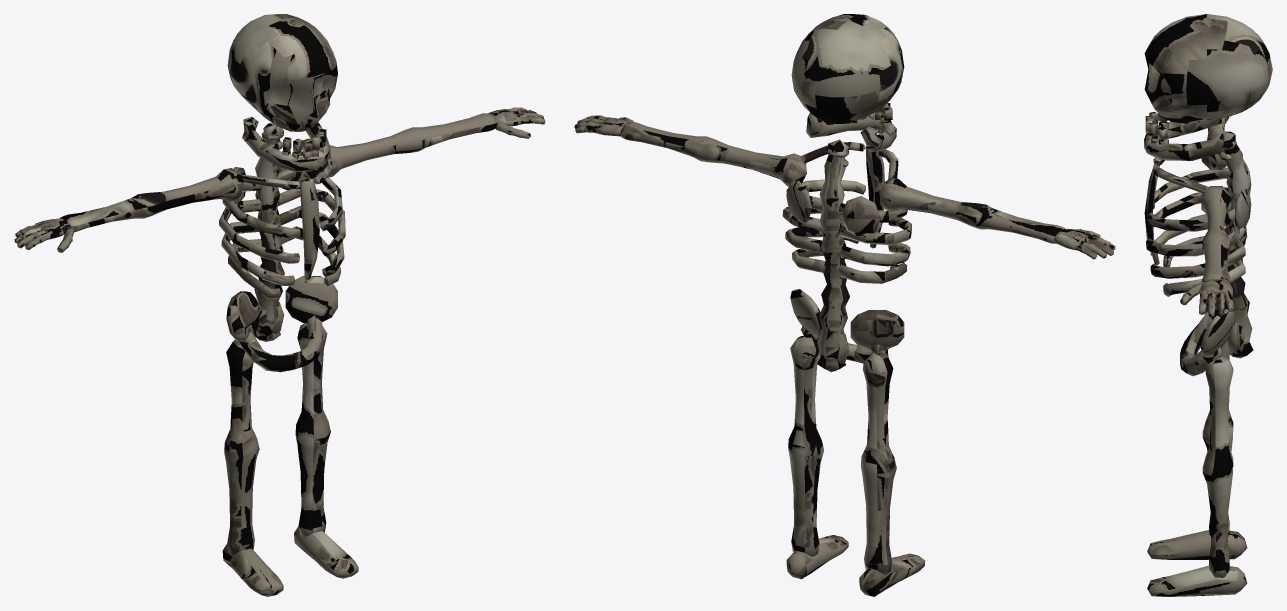
The model's file is Skeleton_LowPoly_v1.fbx.
3 renders of one model, left to right at view 1: azimuth 30°, elevation 25°; view 2: azimuth 150°, elevation 25°; view 3: azimuth 270°, elevation 25°, orthographic.
Visible parts, largest first — view 1: Skeleton_LowPoly; view 2: Skeleton_LowPoly; view 3: Skeleton_LowPoly.
Boxes of the visible parts, x1,y1,x2,y2 form: Skeleton_LowPoly: (14,14,545,596); Skeleton_LowPoly: (574,14,1115,596); Skeleton_LowPoly: (1144,14,1272,596).
Bounding box in the file's own units: 1.99 × 1.98 × 0.4148.
1 material, 1 textured.
